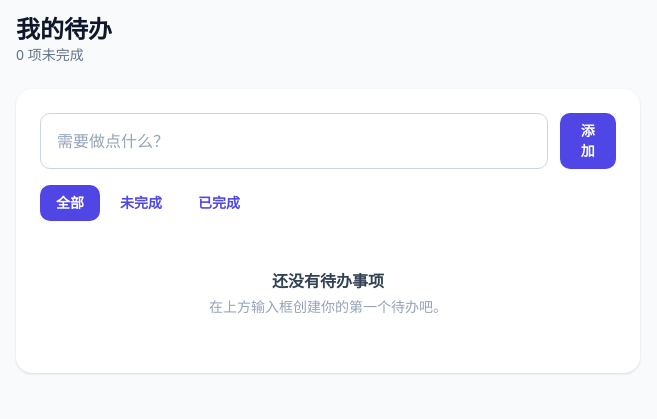
Test: 持久化与错误处理 (todo-persistence, 第 9 组) › on save failure shows an error and preserves the typed input for retry (9.3)
Expected: the element with test id "empty-state" is shown, [209, 270, 447, 316]
Type "买牛奶" into the field named "新待办标题" at point(294, 141), box [40, 113, 548, 169]
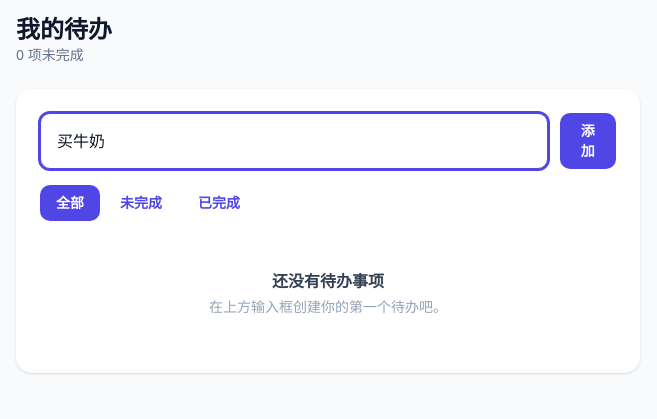
Click the button "添加" at point(588, 141), box [560, 113, 616, 169]
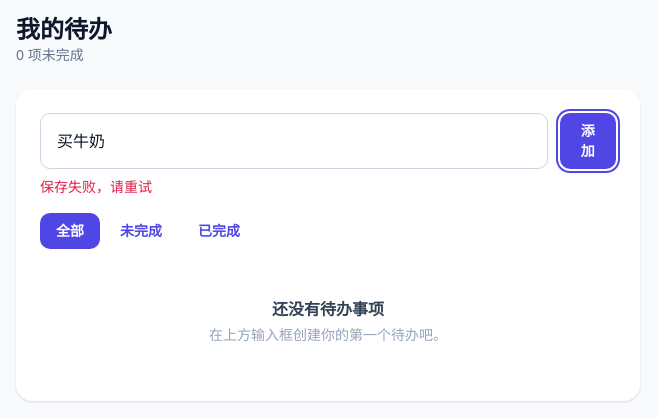
Expected: the message shows "保存失败", [40, 177, 152, 196]
Click the button "添加" at point(588, 141), box [560, 113, 616, 169]
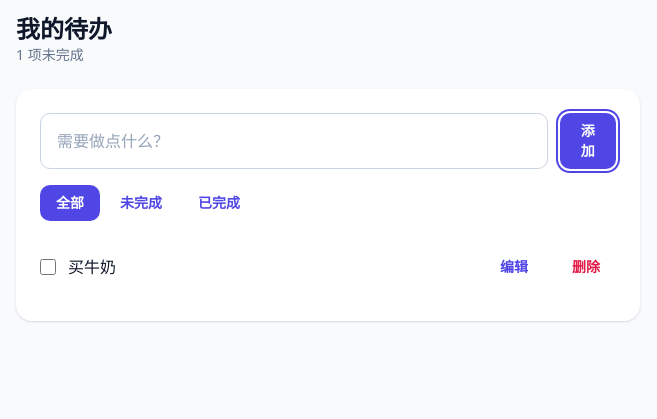
Expected: the text "买牛奶" is shown, [68, 256, 116, 278]
Expected: the field named "新待办标题" is empty, [40, 113, 548, 169]
